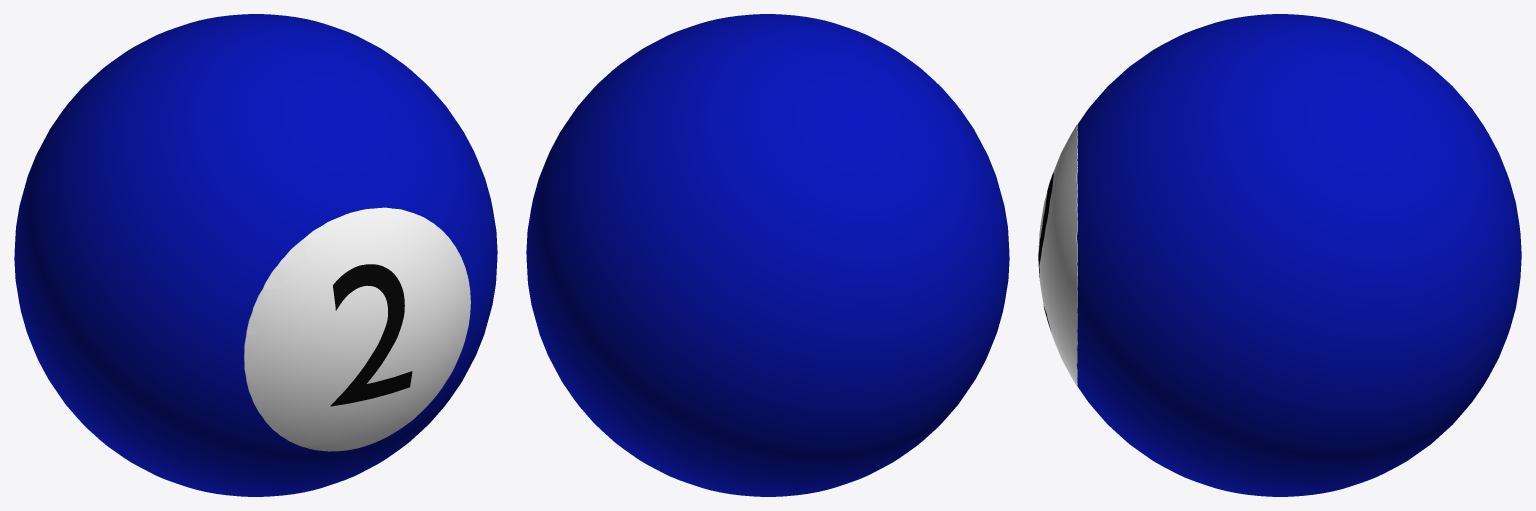
The model's file is Ball2.fbx.
The picture shows the model from 3 angles, left to right: view 1: azimuth 30°, elevation 25°; view 2: azimuth 150°, elevation 25°; view 3: azimuth 270°, elevation 25°; orthographic projection.
Visible parts, largest first — view 1: Ball2; view 2: Ball2; view 3: Ball2.
Boxes of the visible parts, x1=… form: Ball2: x1=14, y1=14, x2=497, y2=496; Ball2: x1=526, y1=14, x2=1009, y2=496; Ball2: x1=1038, y1=14, x2=1521, y2=496.
Size of the model in its own units: 5.7 by 5.7 by 5.7.
